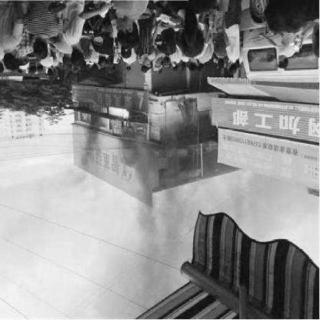Fire: (147, 98, 199, 134), (102, 103, 134, 125)
